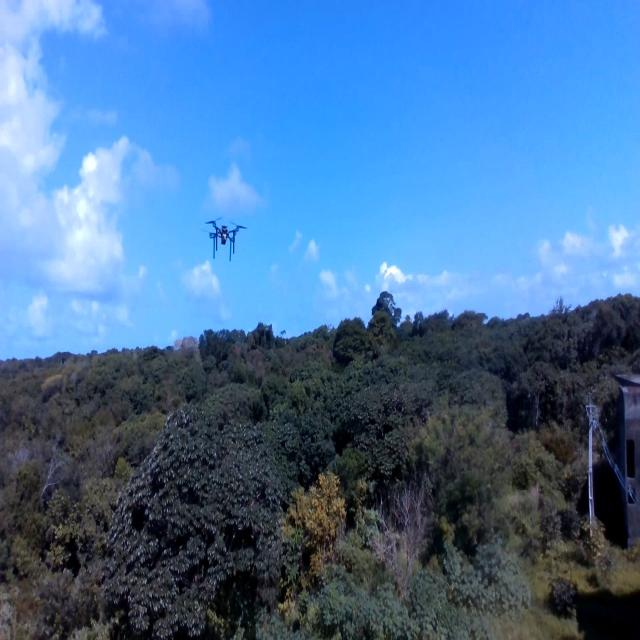-uav-: (196, 202, 250, 270)
